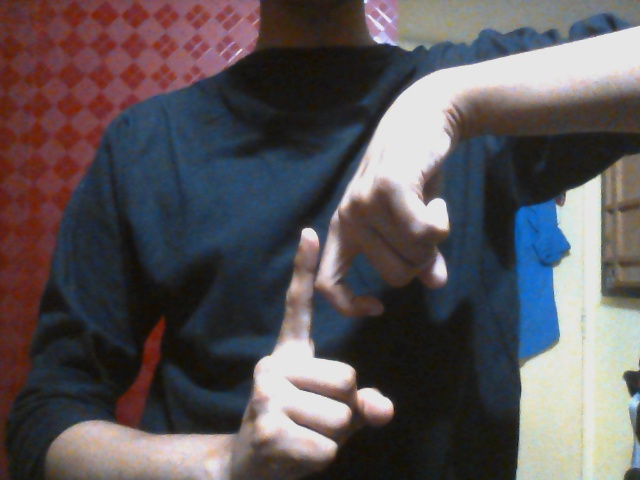K: (253, 158, 433, 466)
